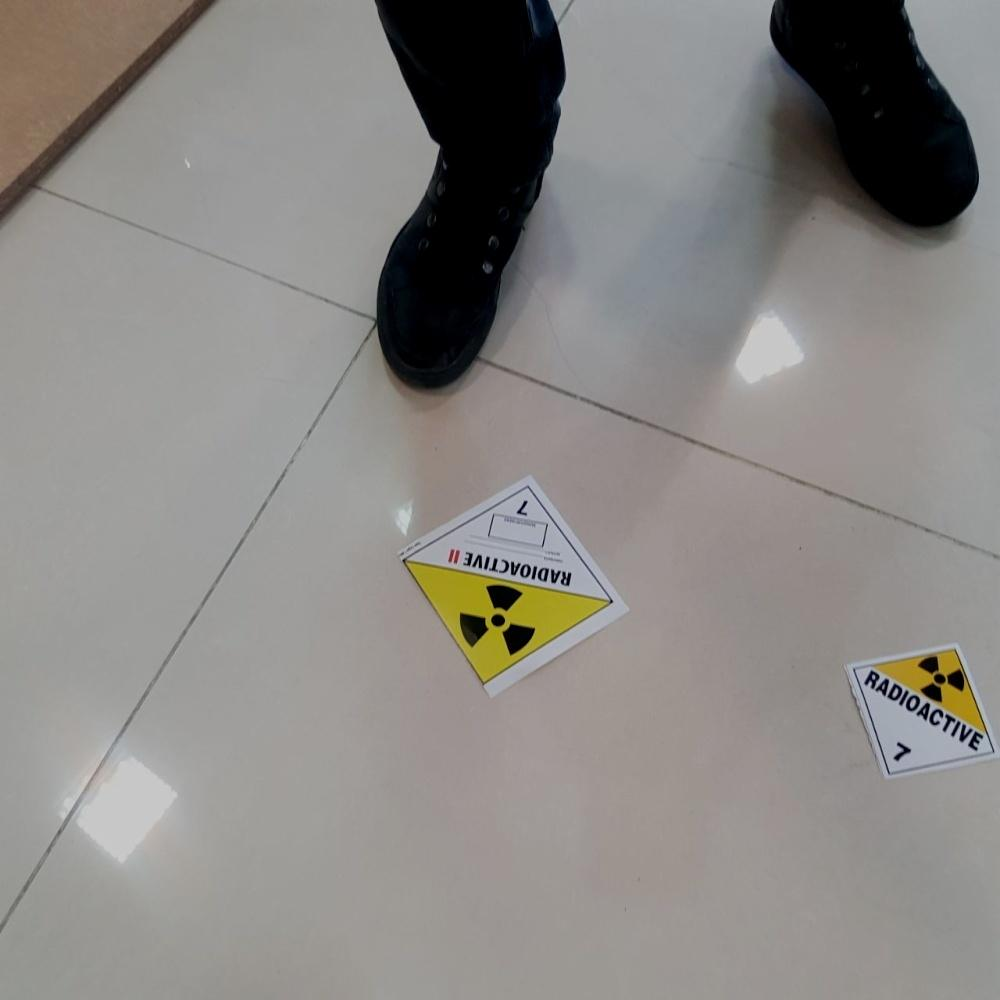radioactive: (397, 476, 629, 697), (843, 641, 1000, 780)
